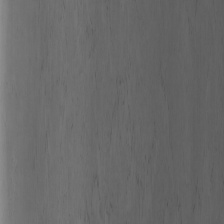silk_spot: (74, 39, 189, 224)
